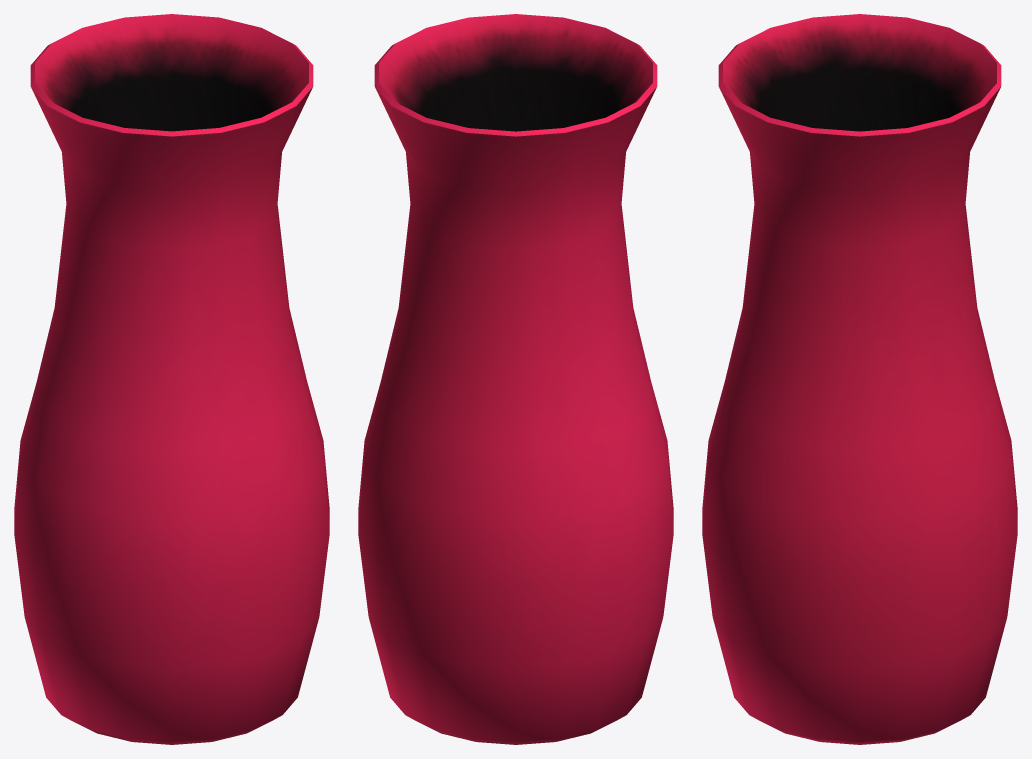
The model's file is vasesmall.FBX.
The picture shows the model from 3 angles, left to right: view 1: azimuth 30°, elevation 25°; view 2: azimuth 150°, elevation 25°; view 3: azimuth 270°, elevation 25°; orthographic projection.
Visible parts, largest first — view 1: vasesmall; view 2: vasesmall; view 3: vasesmall.
Part boxes in pixels (x1,y1,x2,y2): vasesmall: (14,14,329,744); vasesmall: (358,14,673,744); vasesmall: (702,14,1017,744).
Bounding box in the file's own units: 0.00297 × 0.00292 × 0.00637.
